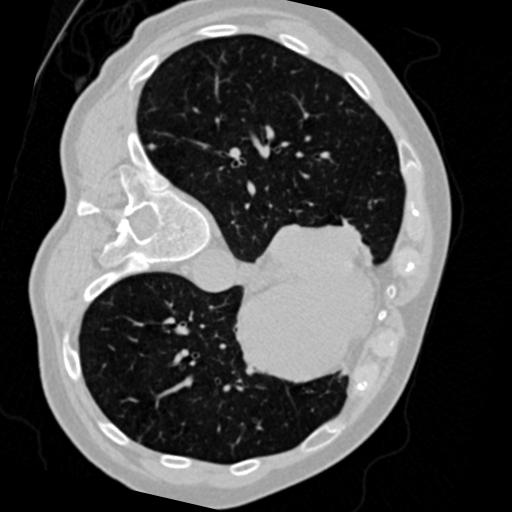nodule: (146, 140, 160, 154)
